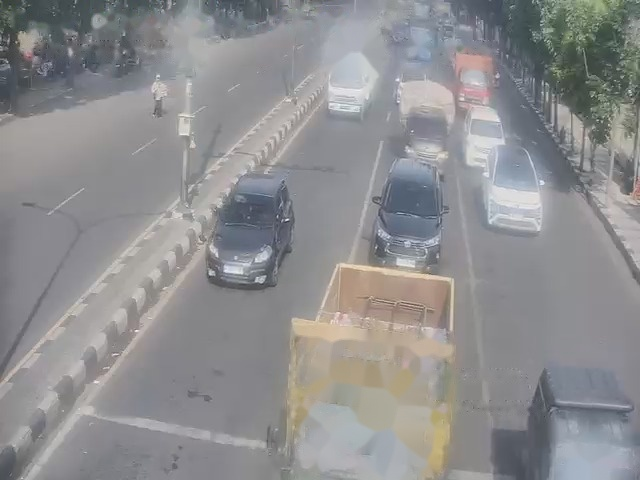Bis: (398, 79, 453, 164)
Mobil: (533, 366, 629, 477), (205, 166, 289, 285), (374, 152, 446, 266), (487, 142, 544, 230), (398, 79, 453, 164), (327, 45, 369, 121), (463, 101, 508, 165)
Truk: (306, 261, 442, 474), (455, 52, 489, 105)
